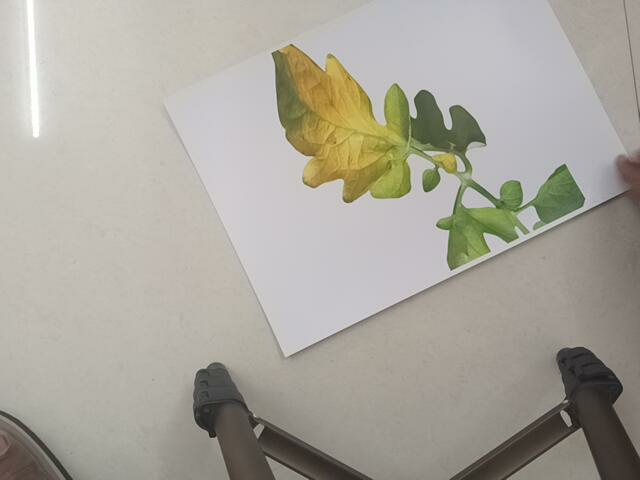Tomamto_Yellow_Disease: (267, 36, 597, 264)
